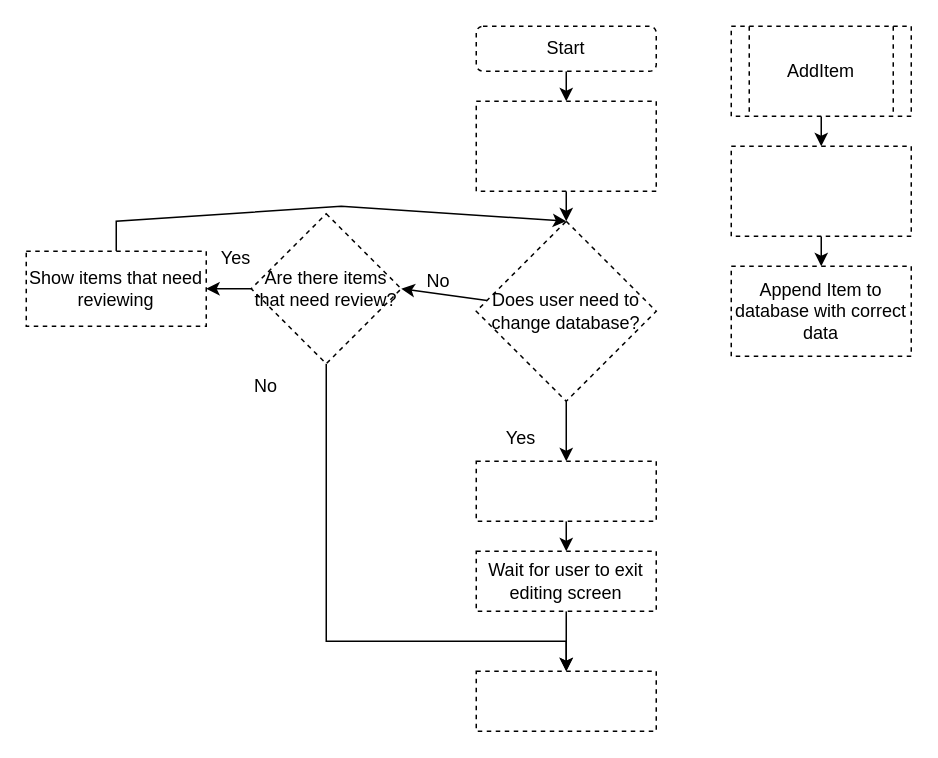
This 938x758 diagram has some shape labels left out. Each missing label, with the box of its shape:
Load current database: (730, 145, 911, 236)
Load inventory screen: (475, 100, 656, 191)
Show editing screen: (475, 460, 656, 521)
Show inventory main screen: (475, 670, 656, 731)
